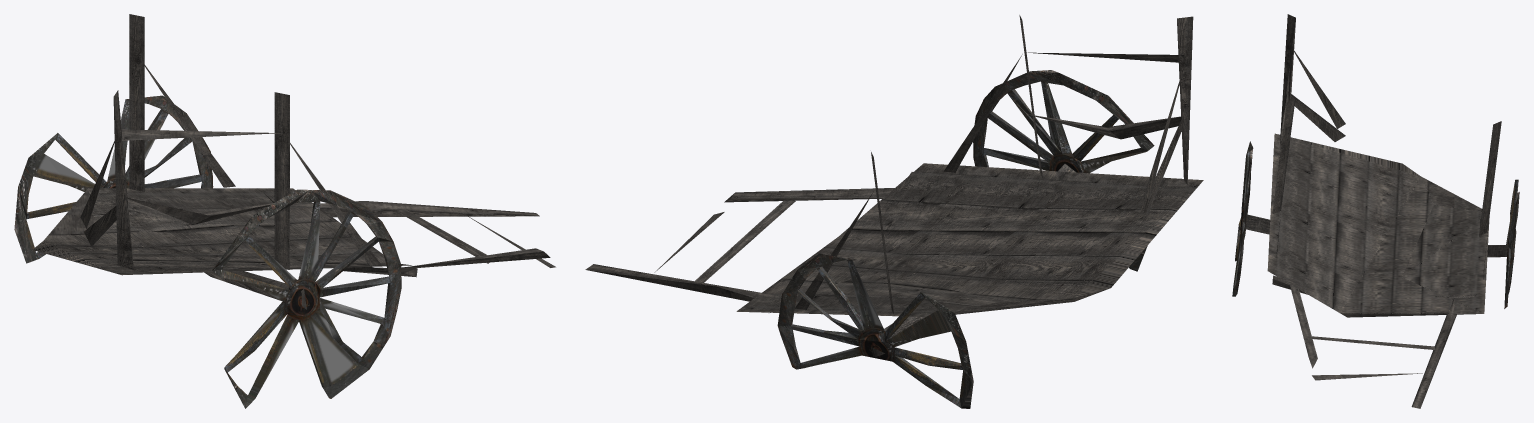
The model's file is v3_haywagon_LOD.dae.
3 renders of one model, left to right at view 1: azimuth 30°, elevation 25°; view 2: azimuth 150°, elevation 25°; view 3: azimuth 270°, elevation 25°, orthographic. The views are drawn at different scales.
Parts seen in each view (by area): view 1: Haywagon_haywagon_D_tga; view 2: Haywagon_haywagon_D_tga; view 3: Haywagon_haywagon_D_tga.
Boxes of the visible parts, <box> form: Haywagon_haywagon_D_tga: <box>14,14,555,408</box>; Haywagon_haywagon_D_tga: <box>585,15,1203,408</box>; Haywagon_haywagon_D_tga: <box>1232,14,1519,408</box>.
Bounding box in the file's own units: 2.78 × 1.63 × 1.91.
